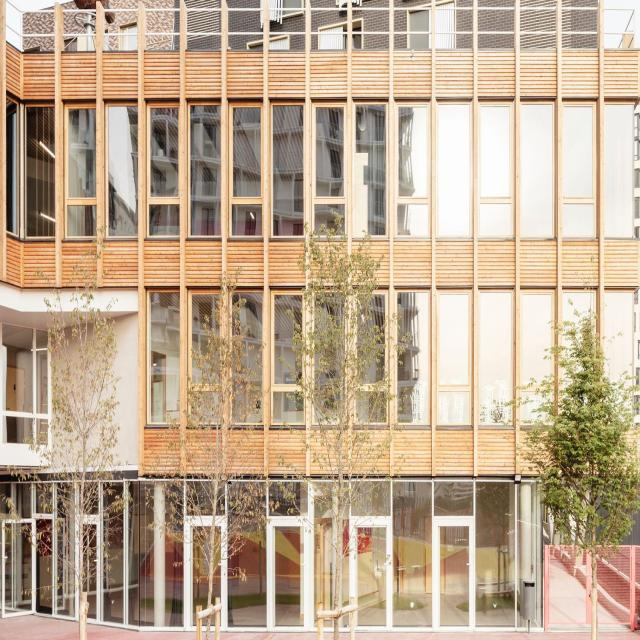Railing: (10, 1, 636, 51)
door: (182, 516, 230, 630), (347, 514, 392, 630), (267, 515, 312, 631), (432, 518, 474, 628), (76, 514, 101, 620)
plant: (276, 210, 411, 558), (6, 227, 129, 586), (144, 268, 280, 581), (518, 307, 637, 639)
wall: (0, 0, 640, 630)
windows: (6, 92, 635, 241), (0, 476, 546, 632), (146, 290, 635, 430), (3, 328, 52, 441)
